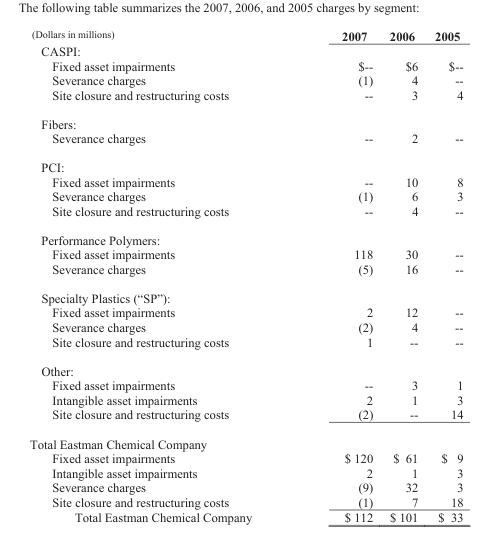table: (29, 28, 462, 523)
table column: (29, 28, 296, 523), (296, 28, 380, 523), (380, 28, 425, 523), (425, 28, 462, 523)
table column header: (29, 28, 462, 43)
table projected row header: (29, 108, 462, 130), (29, 152, 462, 174), (29, 355, 462, 377), (29, 428, 462, 450), (29, 225, 462, 246), (29, 283, 462, 304), (29, 43, 462, 58)
table row: (29, 108, 462, 130), (29, 130, 462, 152), (29, 152, 462, 174), (29, 203, 462, 225), (29, 261, 462, 283), (29, 333, 462, 355), (29, 355, 462, 377), (29, 406, 462, 428), (29, 428, 462, 450), (29, 87, 462, 108), (29, 225, 462, 246), (29, 283, 462, 304), (29, 28, 462, 43), (29, 43, 462, 58), (29, 72, 462, 87), (29, 188, 462, 203), (29, 246, 462, 261), (29, 304, 462, 319), (29, 377, 462, 392), (29, 450, 462, 465), (29, 479, 462, 494), (29, 494, 462, 509), (29, 58, 462, 72), (29, 174, 462, 188), (29, 319, 462, 333), (29, 392, 462, 406), (29, 465, 462, 479), (29, 509, 462, 523)
